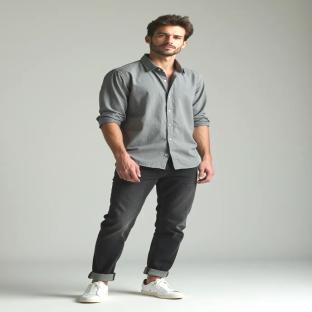Human: (80, 15, 214, 302)
